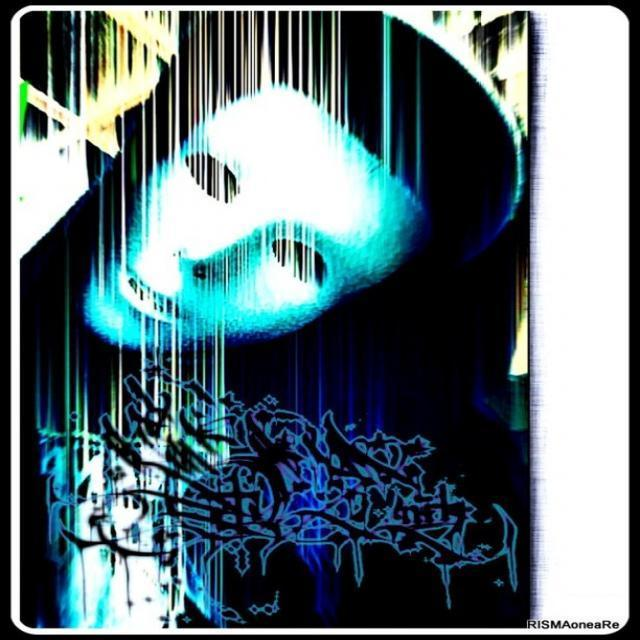-: (35, 346, 555, 600)
